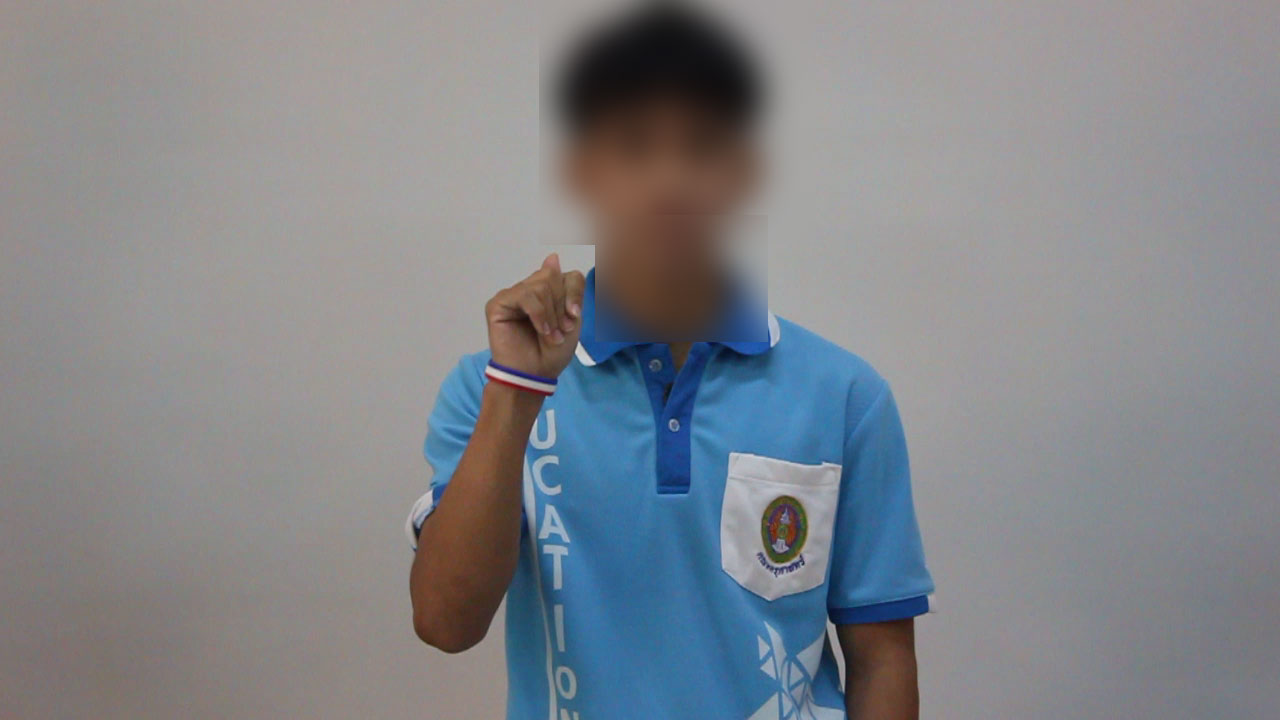tor: (472, 243, 601, 415)
